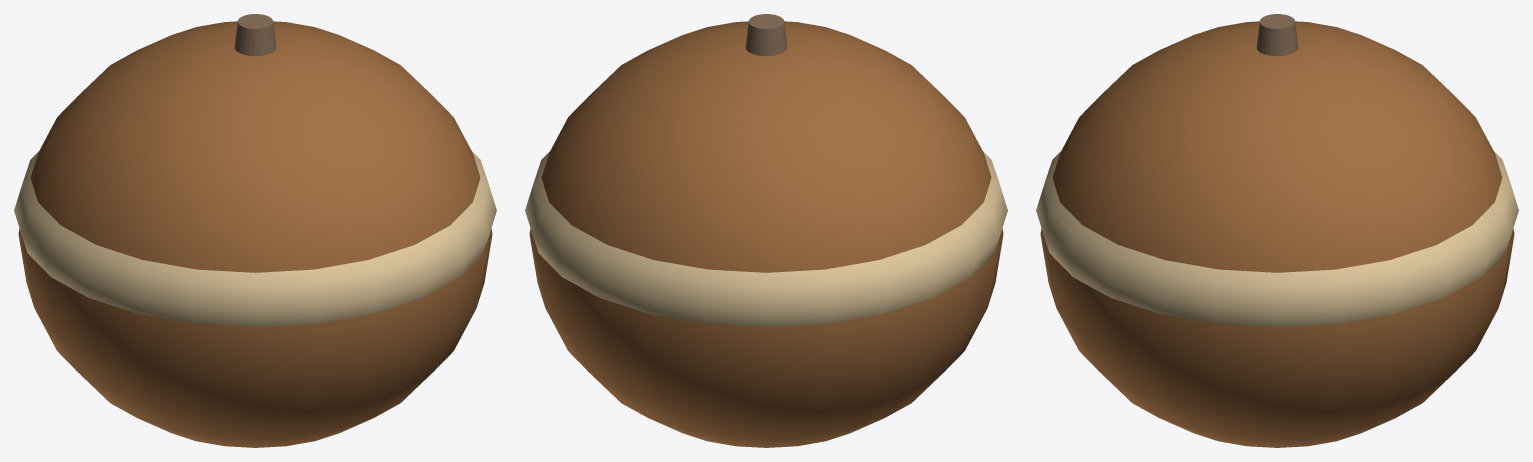
The model's file is chestnut.glb.
3 views of the same model, side by side, from view 1: azimuth 30°, elevation 25°; view 2: azimuth 150°, elevation 25°; view 3: azimuth 270°, elevation 25° (orthographic).
Visible parts, largest first — view 1: Chestnut, Cap, Stem; view 2: Chestnut, Cap, Stem; view 3: Chestnut, Cap, Stem.
Boxes of the visible parts, x1,y1,x2,y2 form: Chestnut: [18, 21, 492, 447]; Cap: [14, 151, 496, 326]; Stem: [234, 14, 276, 56]; Chestnut: [529, 21, 1003, 447]; Cap: [525, 151, 1007, 326]; Stem: [745, 14, 787, 56]; Chestnut: [1040, 21, 1514, 447]; Cap: [1036, 151, 1518, 326]; Stem: [1256, 14, 1298, 56].
Bounding box in the file's own units: 0.326 × 0.2992 × 0.326.
